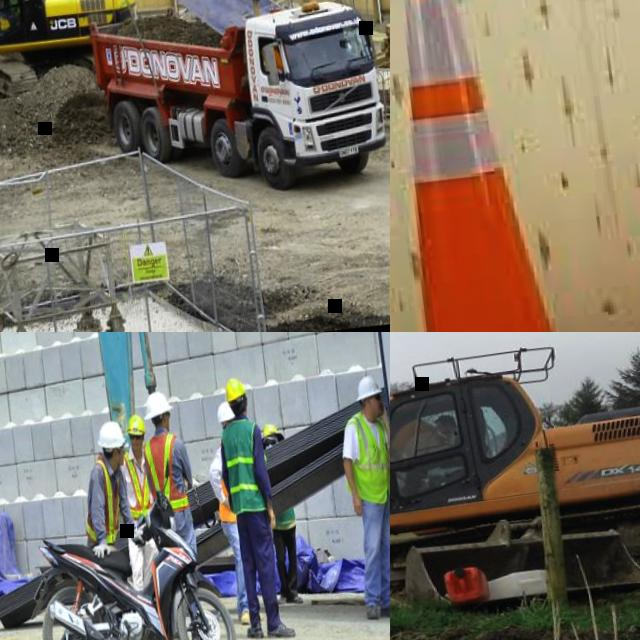Hardhat: (142, 387, 172, 418), (96, 418, 125, 447), (354, 372, 383, 399), (125, 412, 146, 437), (226, 376, 247, 399), (217, 401, 236, 423), (260, 421, 282, 439)
NO-Hardhat: (433, 412, 454, 424)
NO-Mask: (112, 452, 125, 466), (372, 402, 384, 416), (129, 438, 141, 451), (164, 420, 172, 429)
Person: (211, 371, 295, 640), (135, 384, 213, 640), (69, 418, 153, 640), (331, 369, 390, 625), (200, 400, 264, 623), (113, 410, 171, 640), (257, 417, 308, 602), (391, 410, 467, 498), (0, 0, 22, 24)
Safety Cone: (390, 0, 620, 332), (575, 0, 640, 332)
Safety Vest: (74, 452, 128, 548), (219, 415, 266, 513), (346, 408, 390, 507), (142, 429, 192, 512), (264, 441, 298, 531), (119, 443, 156, 519), (214, 473, 238, 524), (1, 0, 20, 13)
vehicle: (390, 332, 640, 640), (78, 0, 390, 213), (0, 332, 183, 637), (339, 332, 390, 552)
